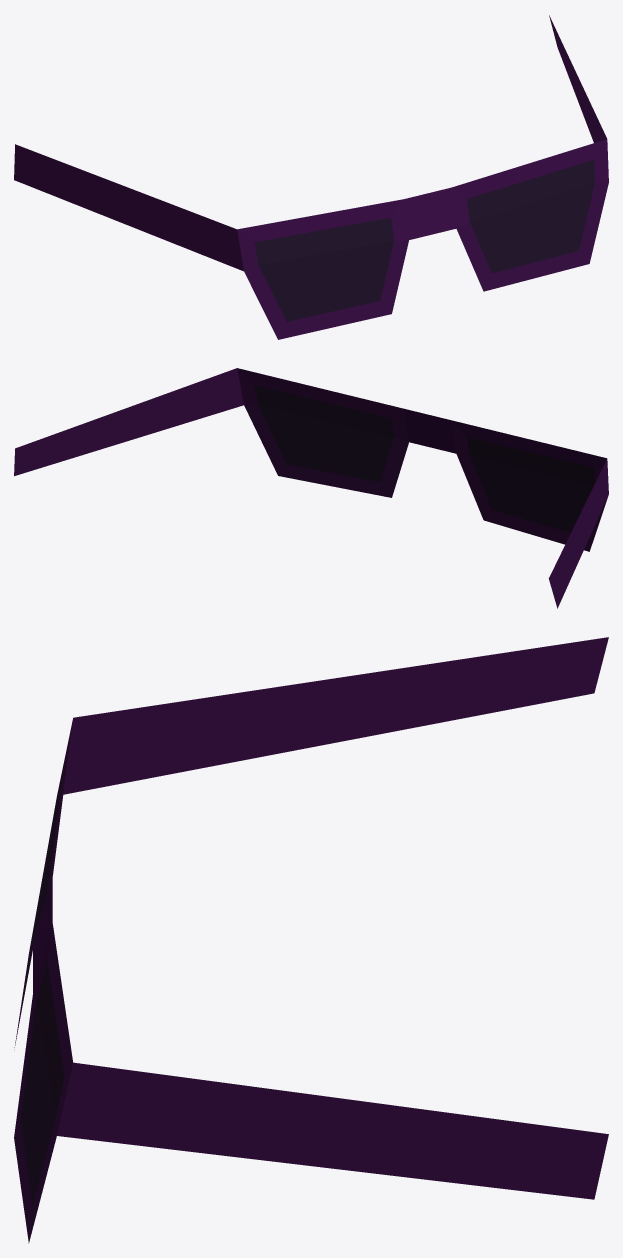
File: glasses_01.glb
3 renders of one model, top to bottom at view 1: azimuth 30°, elevation 25°; view 2: azimuth 150°, elevation 25°; view 3: azimuth 270°, elevation 25°, orthographic. The views are drawn at different scales.
Visible parts, largest first — view 1: glasses_01; view 2: glasses_01; view 3: glasses_01.
Boxes of the visible parts, x1=… form: glasses_01: x1=14, y1=15, x2=608, y2=339; glasses_01: x1=14, y1=368, x2=608, y2=608; glasses_01: x1=14, y1=637, x2=608, y2=1243.
Bounding box in the file's own units: 1.05 × 0.2053 × 0.5193.
Materials: 1 (1 with a texture image).
